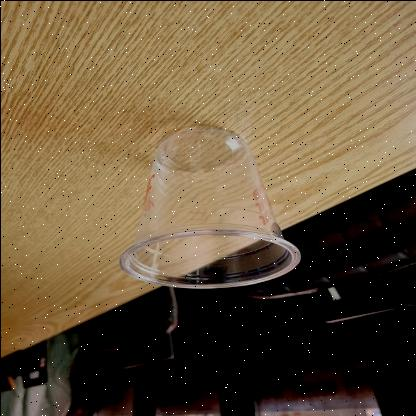Others: (105, 122, 309, 294)
